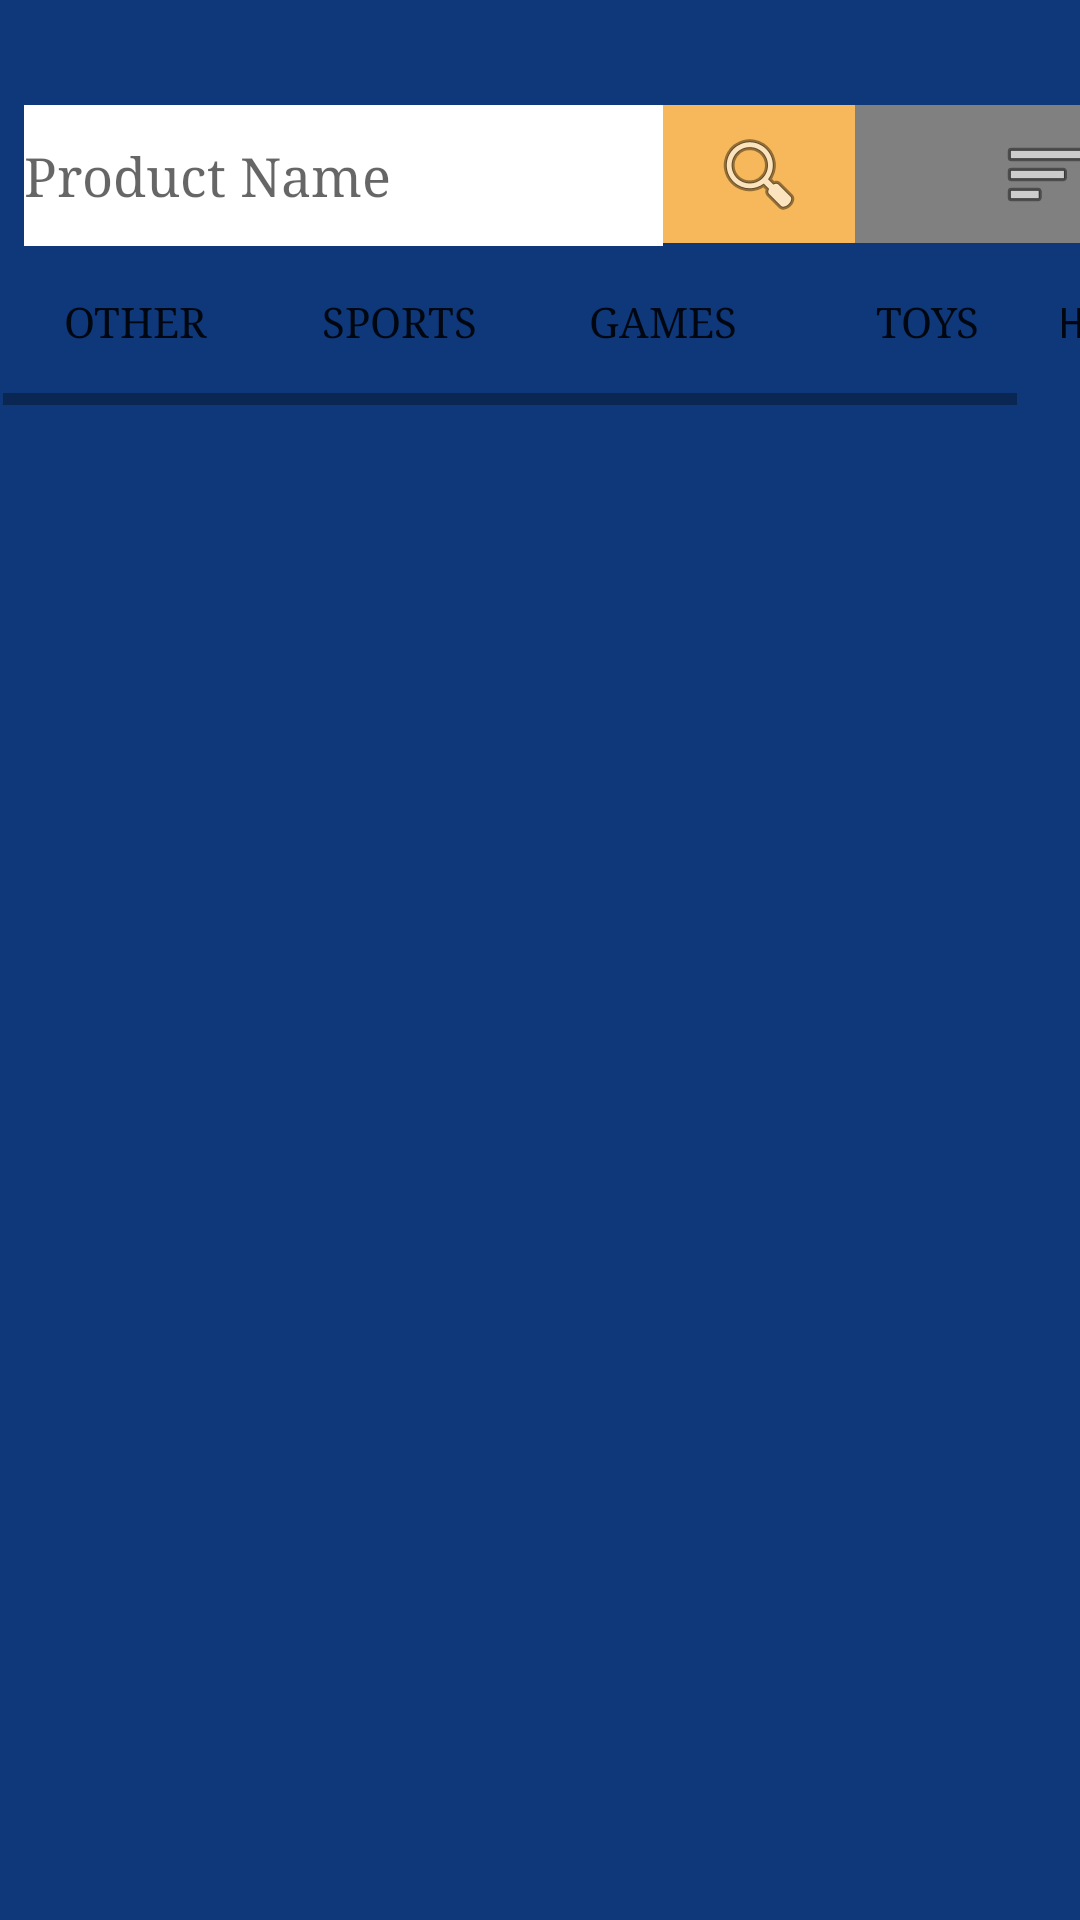

Point at icon controls on the screen. Image size 1080x1920, points as [x,y].
search: [759,174]
